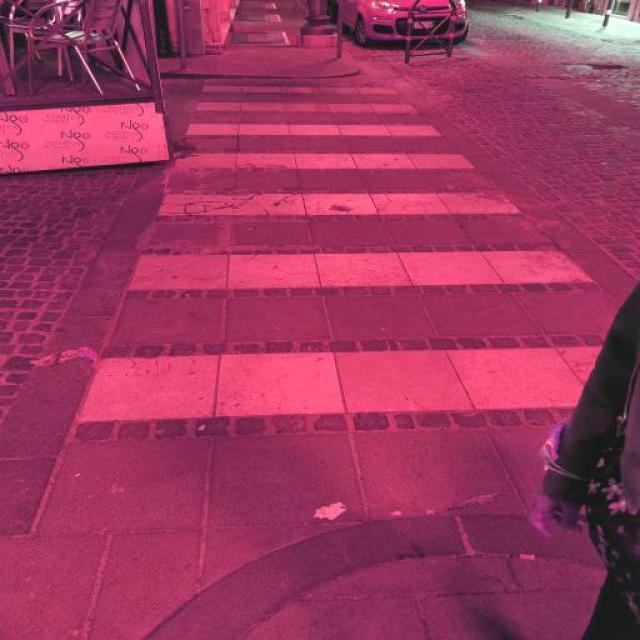crosswalk: (83, 85, 615, 424)
